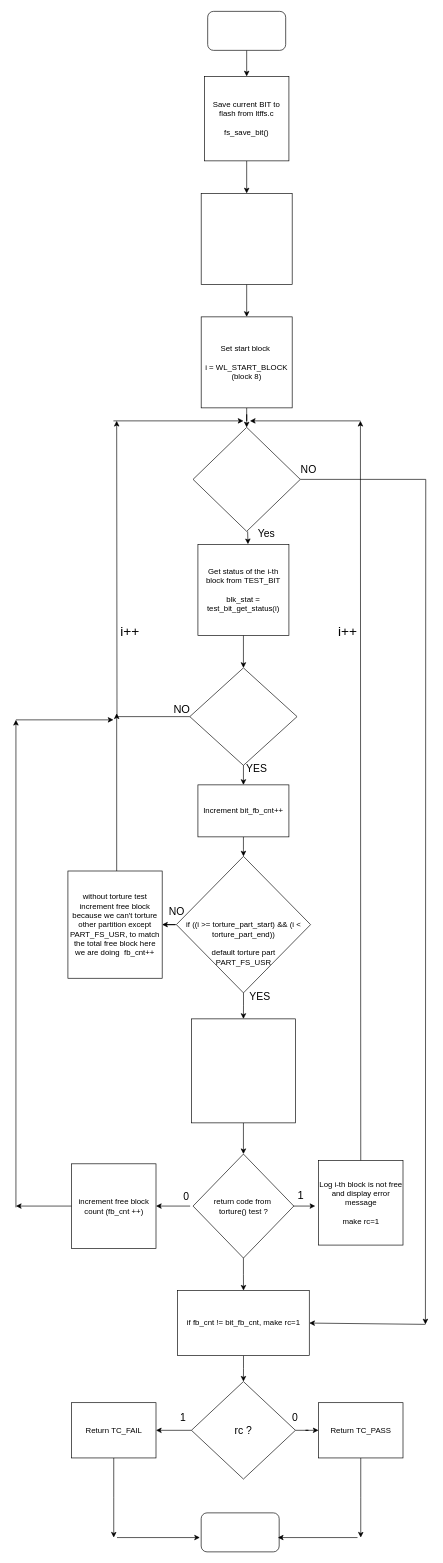
Some shapes in this 443 by 1563 pixel diagram are drawn without their labels. The shapes that lost their labels are listed below. From the top down, each one's centre as x and y in pixels, then its label:
At [246,30]: "start".
At [246,238]: "Get BIT from flash and load it to TEST_BIT array in test_flash.c get_test_bbt()".
At [246,479]: "i < BLOCK_CNT (1024) ?".
At [243,716]: "blk_stat == BLK_FREE ?".
At [243,1070]: "Torture the i-th block paddr = i * BLOCK_SIZE torture(paddr)".
At [240,1532]: "Stop".
